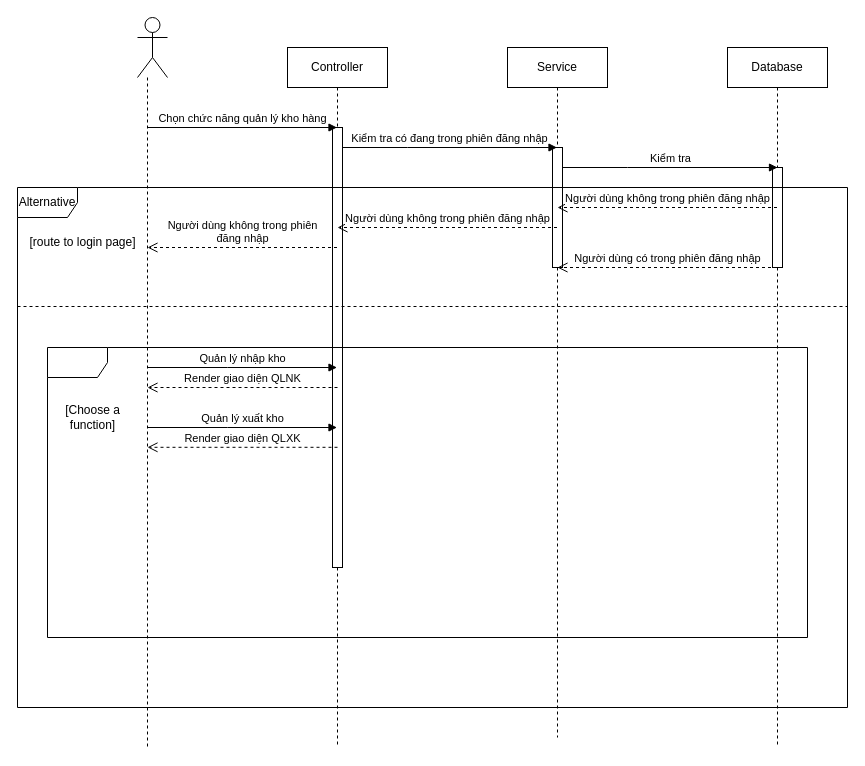
Image size: 865x766. Some labels were removed from this diagram. The shapes that lost their labels are listed below. From the top down, each one's box as (x1, y1, x2, y2) in pixels, then its label:
(136, 16, 168, 78): Actor
(46, 346, 808, 638): frame
